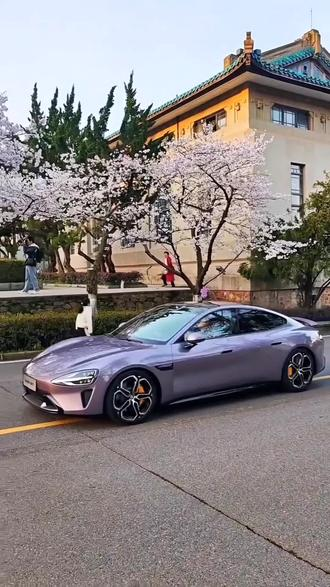su7: (16, 298, 325, 424)
